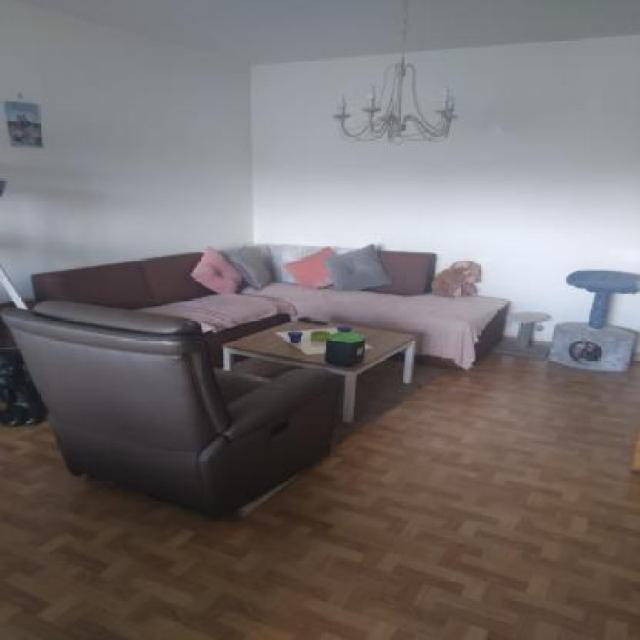Floor: (0, 351, 640, 640)
